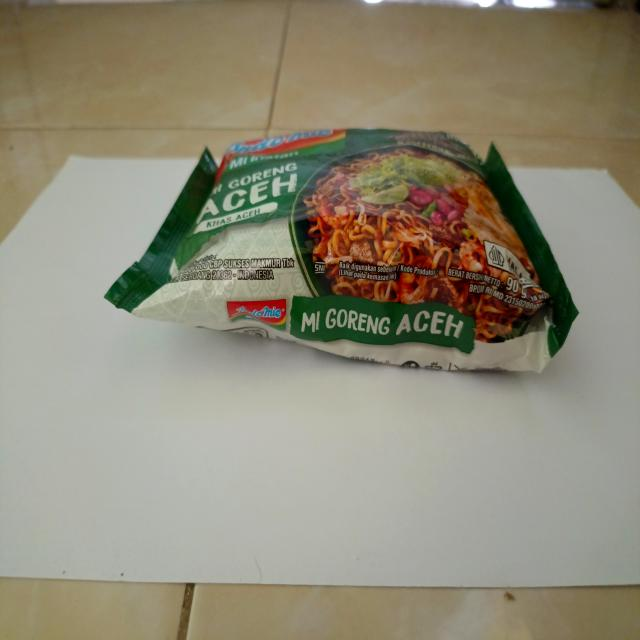gery-salut-coconut: (102, 122, 580, 384)
